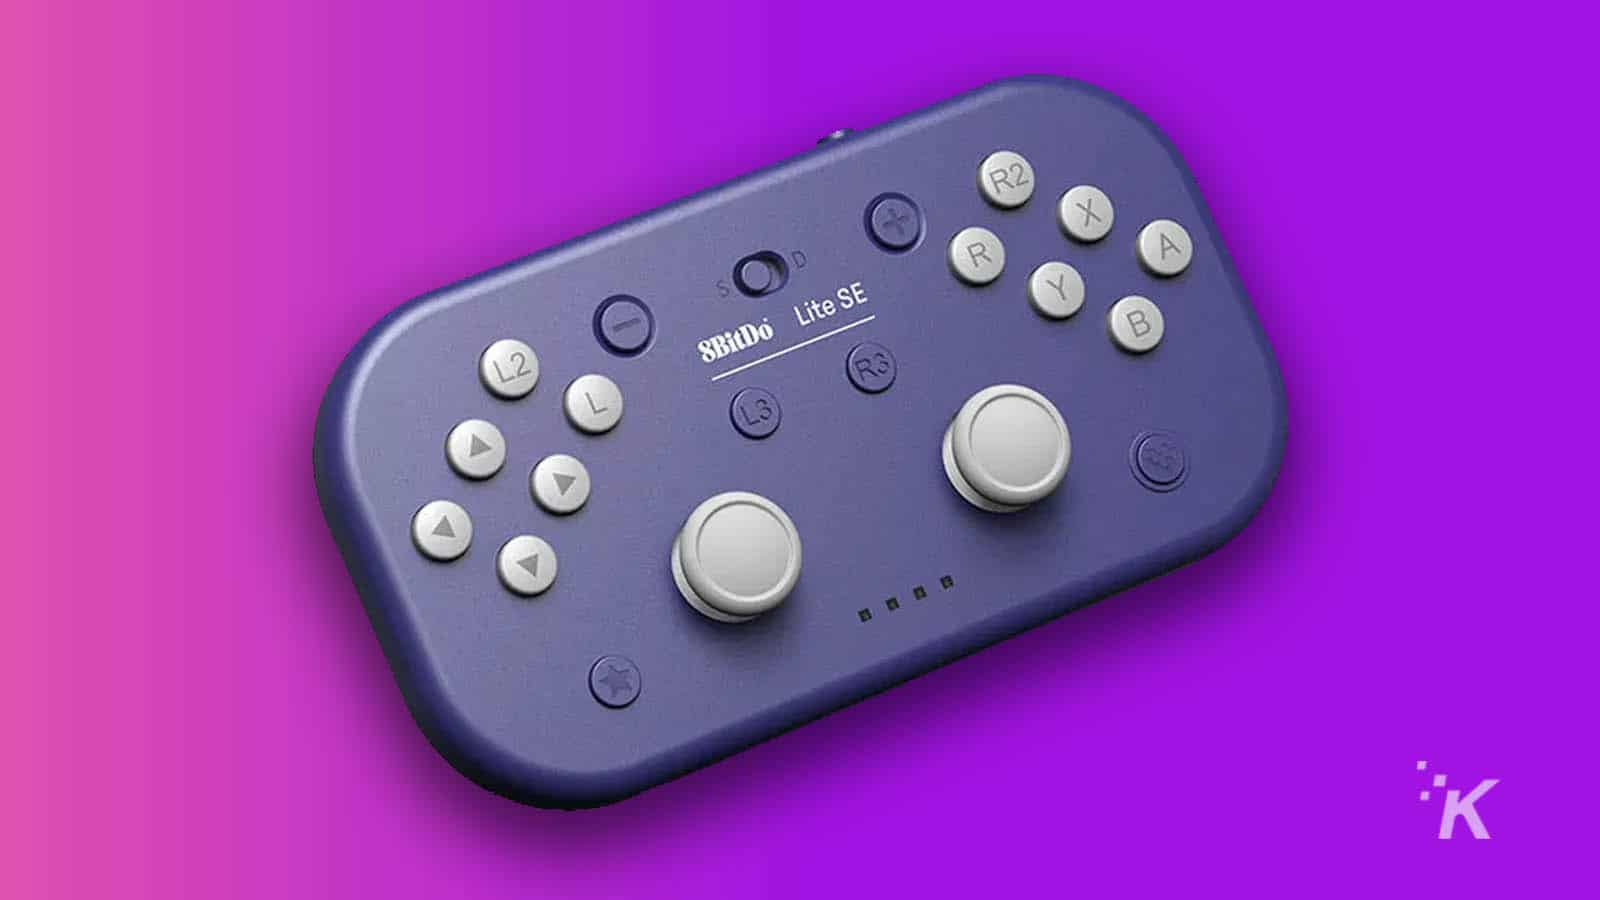controller: (310, 73, 1289, 811)
